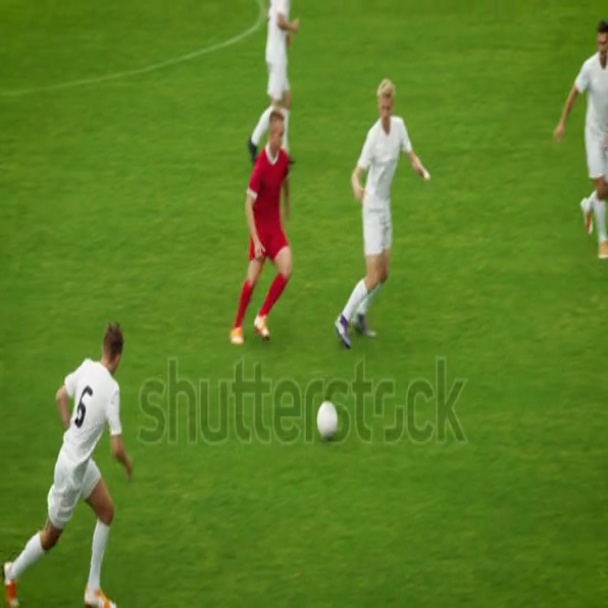ball: (312, 397, 342, 444)
